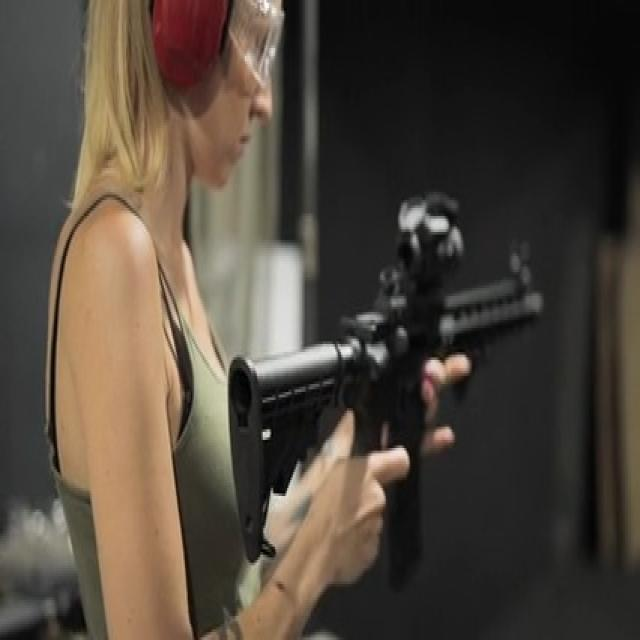Gun_Holder: (213, 187, 600, 629)
Person: (35, 0, 406, 640)
